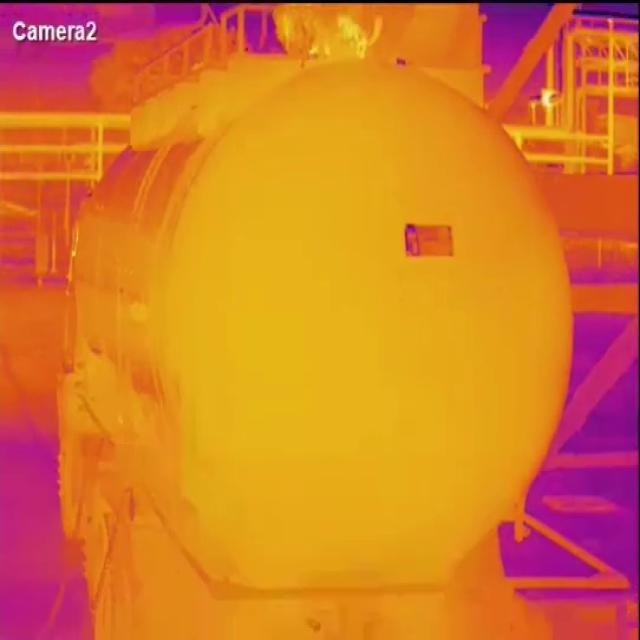tank: (163, 59, 575, 561)
